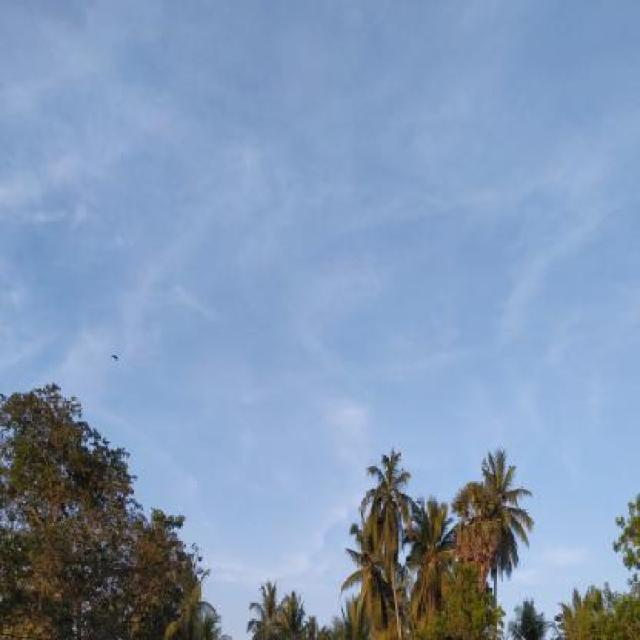bird: (109, 352, 122, 362)
